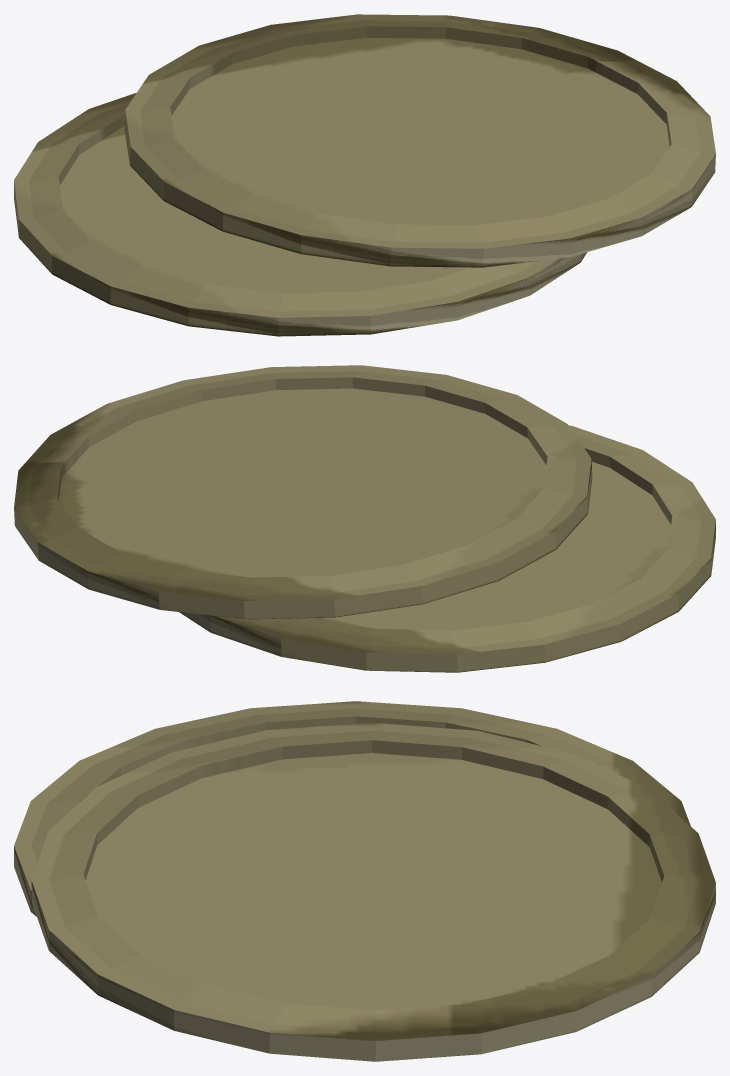
File: SM_tkcontainer3.fbx
3 views of the same model, one above another, from view 1: azimuth 30°, elevation 25°; view 2: azimuth 150°, elevation 25°; view 3: azimuth 270°, elevation 25° (orthographic). The views are drawn at different scales.
Parts seen in each view (by area): view 1: SM_containerlids.001; view 2: SM_containerlids.001; view 3: SM_containerlids.001.
Part boxes in pixels (x1,y1,x2,y2): SM_containerlids.001: [14, 14, 715, 336]; SM_containerlids.001: [14, 365, 715, 672]; SM_containerlids.001: [14, 701, 715, 1061].
Bounding box in the file's own units: 15.03 × 1.41 × 12.53.
